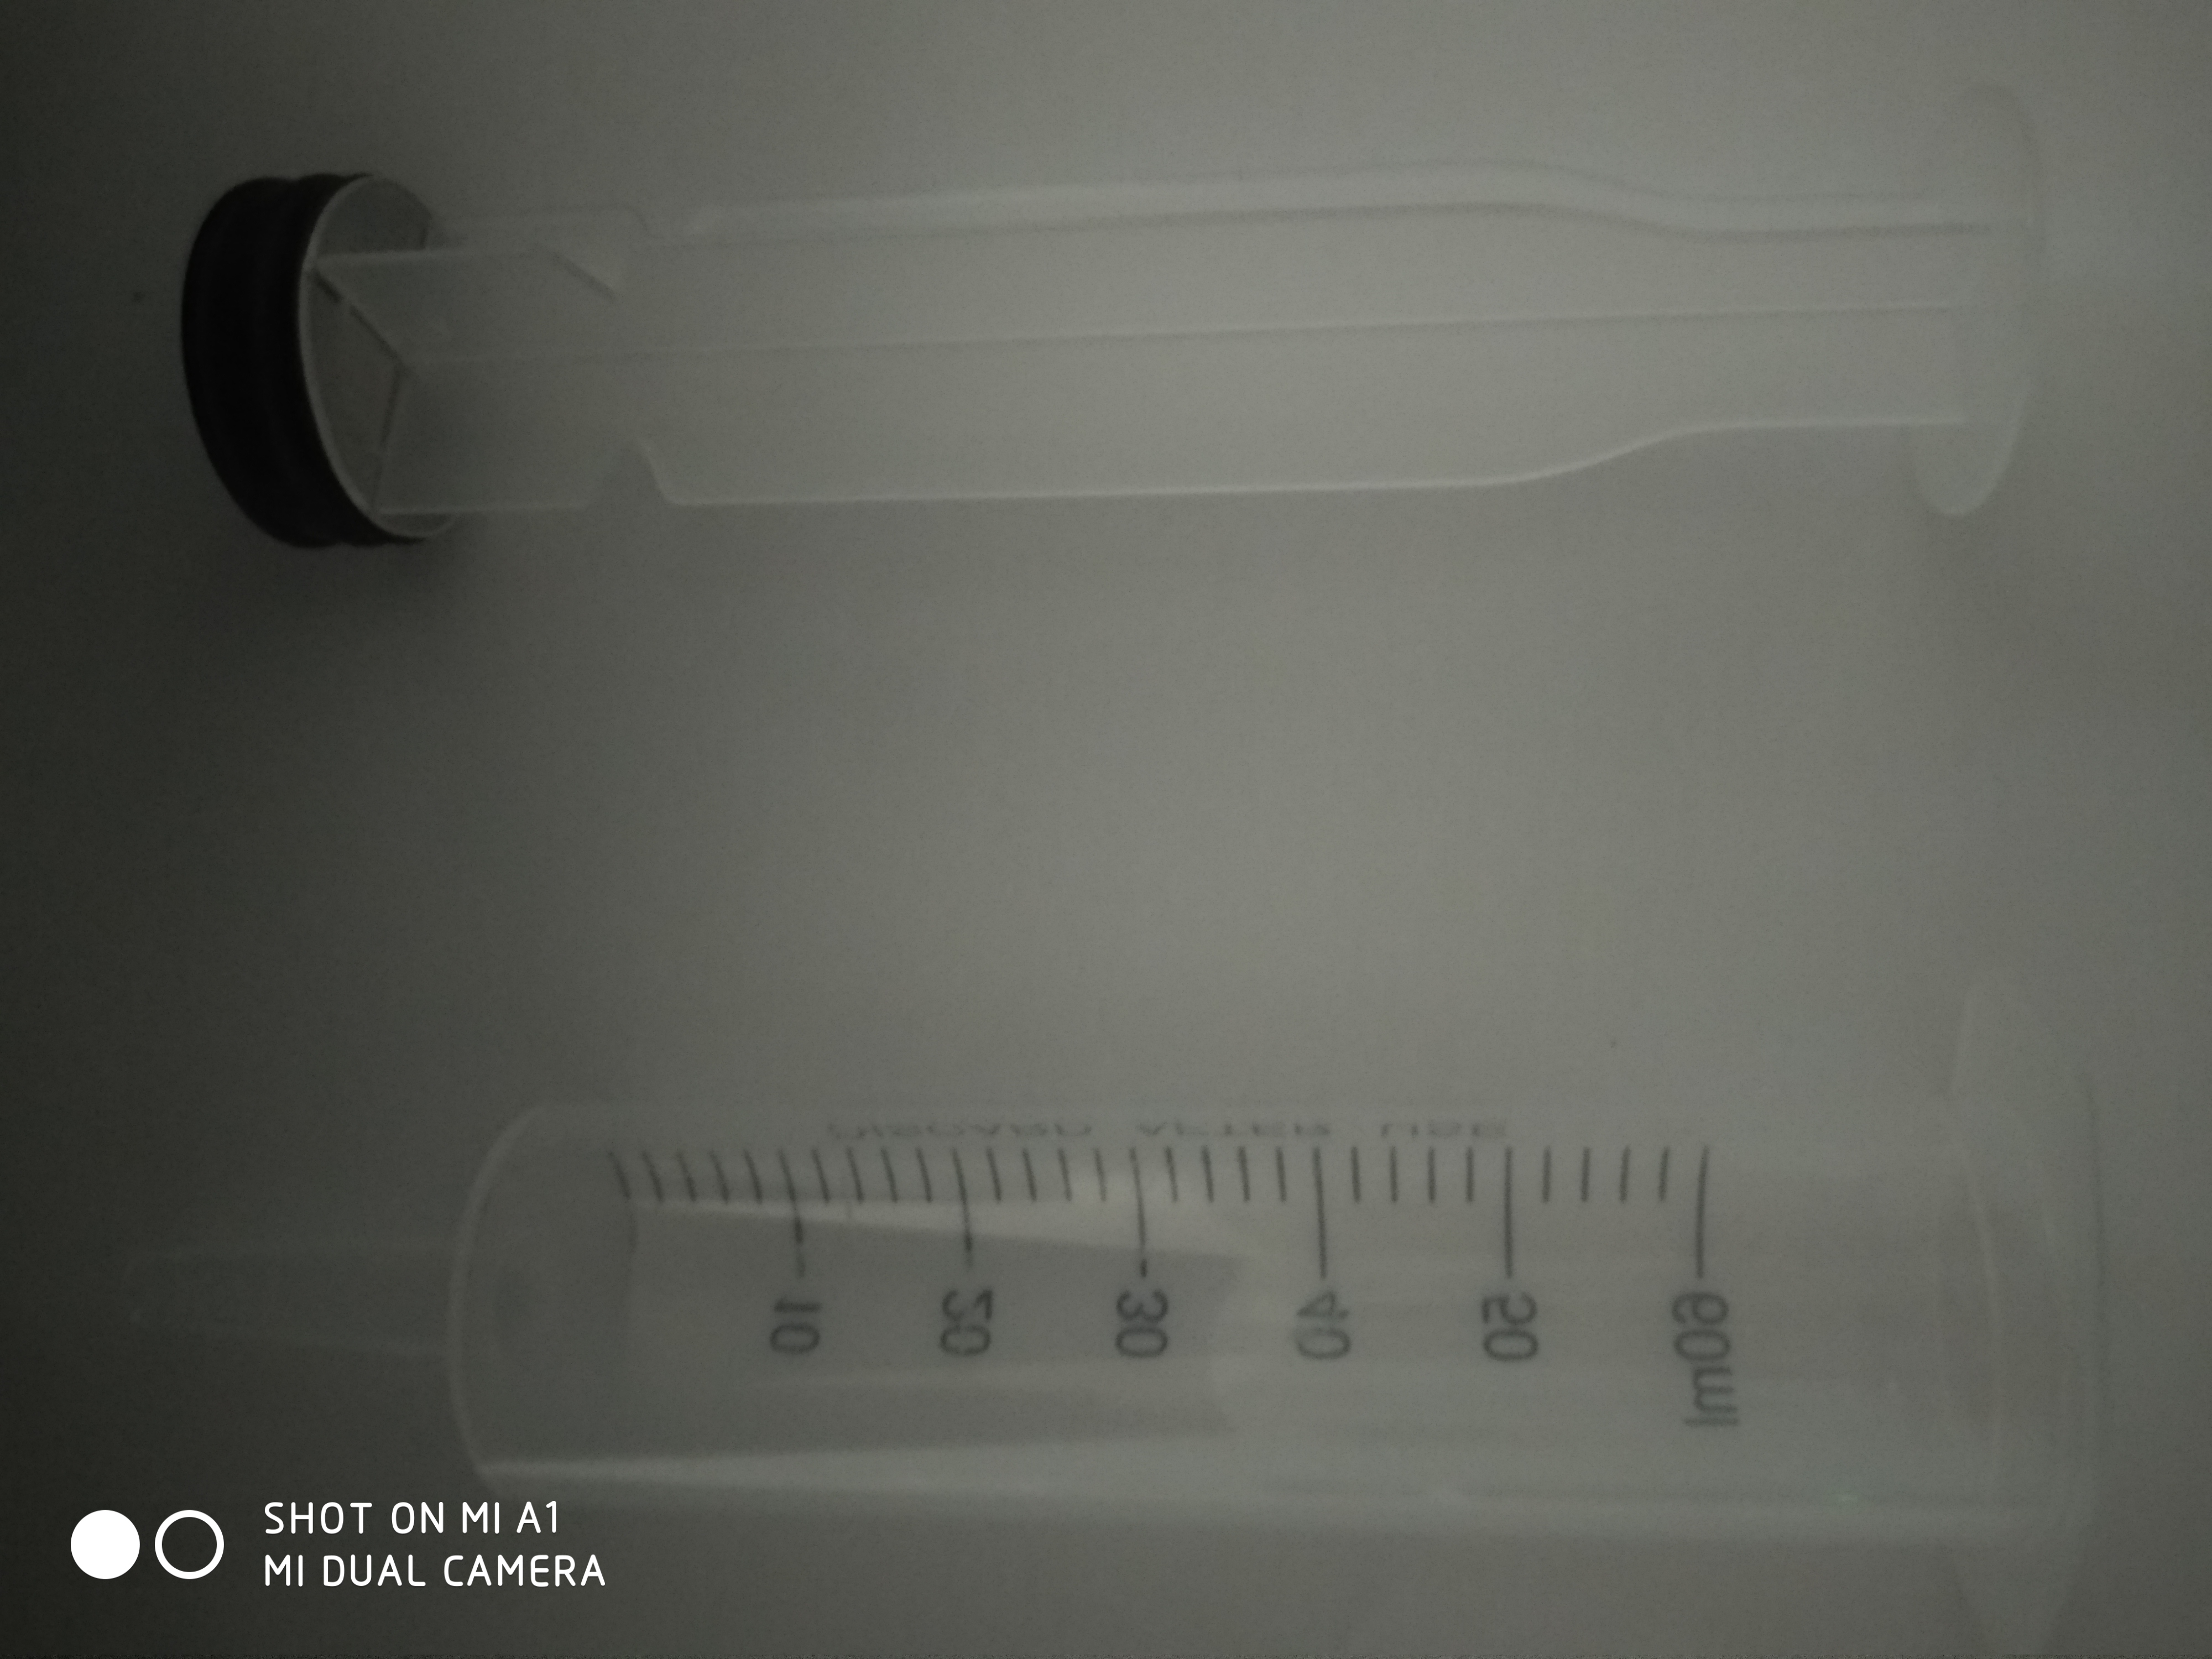plunger: (179, 73, 2067, 558)
syringe: (111, 967, 2160, 1654)
